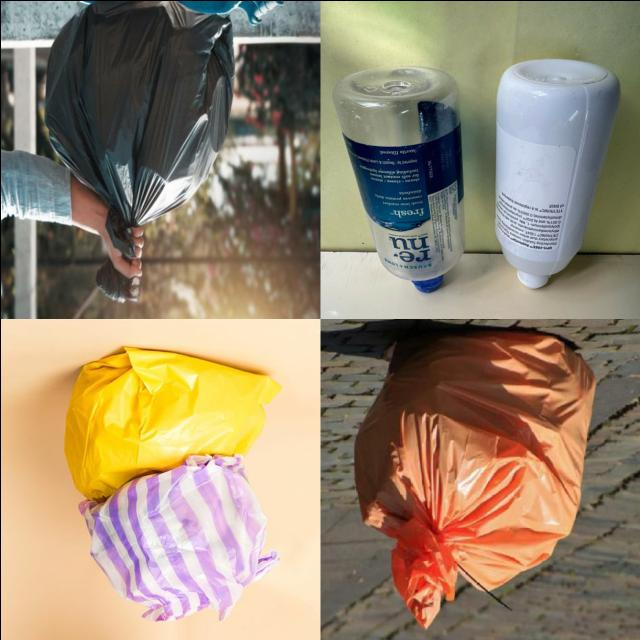plastik: (353, 330, 594, 626), (45, 0, 231, 256), (78, 454, 278, 620), (63, 347, 281, 499), (331, 66, 464, 292), (494, 58, 619, 287)
